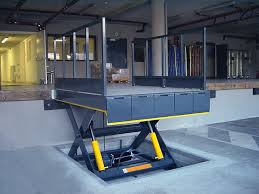Scissor Lift: (52, 17, 212, 181)
